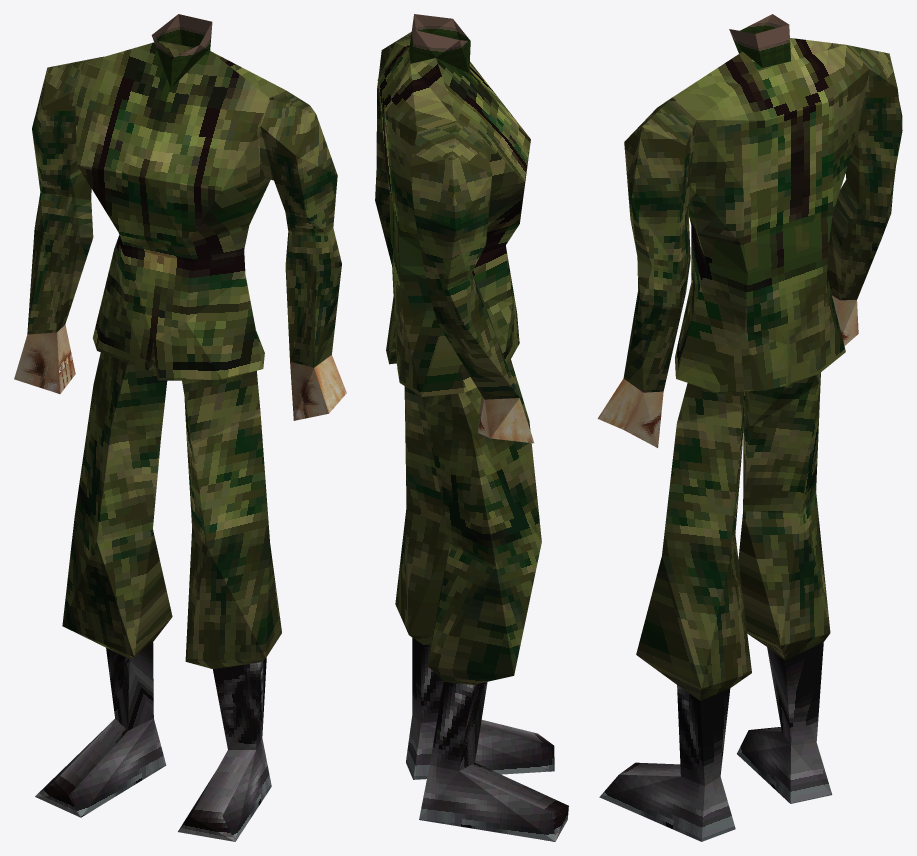
The model's file is primary_406.glb.
3 renders of one model, left to right at view 1: azimuth 30°, elevation 25°; view 2: azimuth 150°, elevation 25°; view 3: azimuth 270°, elevation 25°, orthographic. The views are drawn at different scales.
Visible parts, largest first — view 1: Object; view 2: Object; view 3: Object.
Part boxes in pixels (bbox=[...]): Object: bbox=[14, 14, 346, 841]; Object: bbox=[375, 14, 568, 841]; Object: bbox=[597, 14, 902, 841].
Bounding box in the file's own units: 0.5886 × 1.83 × 0.6374.
85 materials, 85 textured.
